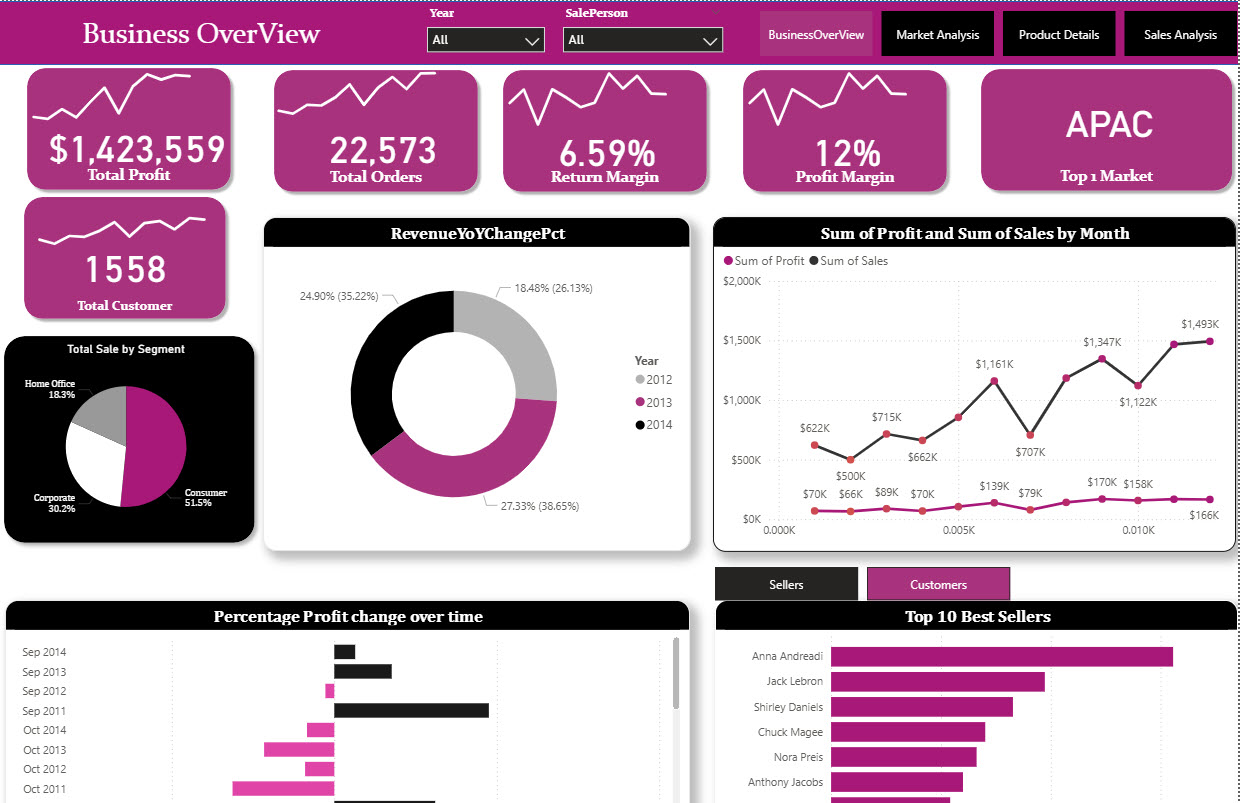

What the dashboard file says about the page in this screenshot:
{"tool":"powerbi","page":{"name":"BusinessOverView","canvas":[1380,1100],"ordinal":0},"visuals":[{"type":"shape","box":[0,0,1400,71.1],"z":0},{"type":"shape","box":[28,68.5,239.9,148.8],"z":0,"group":"g3"},{"type":"shape","box":[1087.5,68.8,292.5,148.8],"z":0,"group":"g7"},{"type":"shape","box":[556.8,69.7,239.9,148.8],"z":0,"group":"g5"},{"type":"shape","box":[823,69.7,239.9,148.8],"z":0,"group":"g6"},{"type":"shape","box":[301.2,70.2,239.9,148.8],"z":0,"group":"g4"},{"type":"shape","box":[24,211.1,237.5,148.8],"z":0,"group":"g2"},{"type":"textbox","box":[0,11,463,57],"z":1000},{"type":"card","fields":{"Values":["Orders.Top Company Sales"]},"box":[1092.6,97.4,287.5,68.8],"z":1000,"group":"g7"},{"type":"card","fields":{"Values":["Orders.Total Profit"]},"box":[40.7,125.7,231.5,68.8],"z":1000,"group":"g3"},{"type":"card","fields":{"Values":["Orders.Total Order"]},"box":[313.9,127.4,231.5,68.8],"z":1000,"group":"g4"},{"type":"card","fields":{"Values":["Orders.Percentage Return"]},"box":[563.1,129.4,231.2,68.8],"z":1000,"group":"g5"},{"type":"card","fields":{"Values":["Orders.Profit Margin"]},"box":[829.3,129.4,231.2,68.8],"z":1000,"group":"g6"},{"type":"card","fields":{"Values":["Orders.Total Custom"]},"box":[55.7,261.8,174.4,62.3],"z":1000,"group":"g2"},{"type":"slicer","fields":{"Values":["Dim_Date.Year"]},"box":[468.9,0,151.1,61.1],"z":2000},{"type":"lineChart","fields":{"Category":["Dim_Date.Month"],"Y":["Orders.Total Profit"]},"box":[11.2,53.8,266.2,91.2],"z":2000,"group":"g3"},{"type":"lineChart","fields":{"Category":["Dim_Date.Month"],"Y":["Orders.Percentage Return"]},"box":[540,55,266.2,91.2],"z":2000,"group":"g5"},{"type":"lineChart","fields":{"Category":["Dim_Date.Month"],"Y":["Orders.Percentage Return"]},"box":[806.2,55,266.2,91.2],"z":2000,"group":"g6"},{"type":"lineChart","fields":{"Category":["Dim_Date.Month"],"Y":["Orders.Total Order"]},"box":[282.8,63.8,266.7,91.1],"z":2000,"group":"g4"},{"type":"lineChart","fields":{"Y":["Orders.Total Custom"],"Category":["Dim_Date.Month"]},"box":[16.7,214.6,280,64.6],"z":2000,"group":"g2"},{"type":"clusteredColumnChart","fields":{"Category":["Dim_Date.Month"],"Y":["Sum(fact_Orders.Profit)","Sum(fact_Orders.Sales)"]},"box":[796.7,246.7,581.1,365.6],"z":3000},{"type":"donutChart","title":"RevenueYoYChangePct","fields":{"Category":["Dim_Date.Year"],"Y":["Dim_Date.RevenueYoYChangePct"]},"box":[296.2,240,475,371.2],"z":4000},{"type":"shape","box":[0,363.8,296.2,247.5],"z":4500,"group":"g1"},{"type":"group","id":"g1","title":"Group 4","box":[0,363.8,296.2,247.5],"z":5000},{"type":"pieChart","title":"Total Sale by Segment ","fields":{"Category":["Orders.Segment"],"Y":["Sum(Orders.Sales)"]},"box":[23.8,378.8,242.5,217.5],"z":5000,"group":"g1"},{"type":"clusteredBarChart","title":"Percentage Profit change over time","fields":{"Category":["Dim_Date.MonthYear"],"Y":["Dim_Date.RevenuePercentageMonth"]},"box":[10,666,761,371],"z":6000},{"type":"group","id":"g2","title":"Group 5","box":[16.7,211.1,280,148.9],"z":7000},{"type":"group","id":"g3","title":"Group 5","box":[11.2,53.8,261.2,163.8],"z":8000},{"type":"group","id":"g4","title":"Group 5","box":[282.8,63.8,266.7,155.2],"z":9000},{"type":"group","id":"g5","title":"Group 5","box":[540,55,266.2,163.8],"z":10000},{"type":"group","id":"g6","title":"Group 5","box":[806.2,55,266.2,163.8],"z":11000},{"type":"group","id":"g7","title":"Group 5","box":[1087.5,68.8,292.5,148.8],"z":12000},{"type":"slicer","fields":{"Values":["Orders.SalePerson"]},"box":[620,0,197.8,61.1],"z":13000},{"type":"pageNavigator","box":[849,11,531,50],"z":14000},{"type":"clusteredBarChart","title":"Top 10 Best Sellers","fields":{"Category":["Profit.SalePerson"],"Y":["Sum(Profit.Profit)"]},"box":[798.9,665.6,581.1,371.1],"z":16000},{"type":"bookmarkNavigator","box":[799,629,328,37],"z":18000}]}

Visuals, with their boxes on the page's 1380x1100 design canvas (x1, y1, x2, y2). These are canvas units, not pixel positions in the 1258x803 screenshot, which may show the page scaled, cropped or inside an application window:
shape: (0,0,1400,71)
shape: (28,68,268,217)
shape: (1088,69,1380,218)
shape: (557,70,797,218)
shape: (823,70,1063,218)
shape: (301,70,541,219)
shape: (24,211,262,360)
textbox: (0,11,463,68)
card - Orders.Top Company Sales: (1093,97,1380,166)
card - Orders.Total Profit: (41,126,272,194)
card - Orders.Total Order: (314,127,545,196)
card - Orders.Percentage Return: (563,129,794,198)
card - Orders.Profit Margin: (829,129,1060,198)
card - Orders.Total Custom: (56,262,230,324)
slicer - Dim_Date.Year: (469,0,620,61)
lineChart - Dim_Date.Month x Orders.Total Profit: (11,54,277,145)
lineChart - Dim_Date.Month x Orders.Percentage Return: (540,55,806,146)
lineChart - Dim_Date.Month x Orders.Percentage Return: (806,55,1072,146)
lineChart - Dim_Date.Month x Orders.Total Order: (283,64,550,155)
lineChart - Orders.Total Custom x Dim_Date.Month: (17,215,297,279)
clusteredColumnChart - Dim_Date.Month x Sum(fact_Orders.Profit): (797,247,1378,612)
"RevenueYoYChangePct" donutChart: (296,240,771,611)
shape: (0,364,296,611)
"Group 4" group: (0,364,296,611)
"Total Sale by Segment " pieChart: (24,379,266,596)
"Percentage Profit change over time" clusteredBarChart: (10,666,771,1037)
"Group 5" group: (17,211,297,360)
"Group 5" group: (11,54,272,218)
"Group 5" group: (283,64,550,219)
"Group 5" group: (540,55,806,219)
"Group 5" group: (806,55,1072,219)
"Group 5" group: (1088,69,1380,218)
slicer - Orders.SalePerson: (620,0,818,61)
pageNavigator: (849,11,1380,61)
"Top 10 Best Sellers" clusteredBarChart: (799,666,1380,1037)
bookmarkNavigator: (799,629,1127,666)
